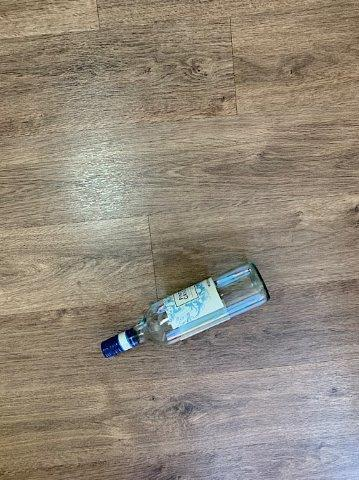botolkaca: (101, 263, 271, 359)
